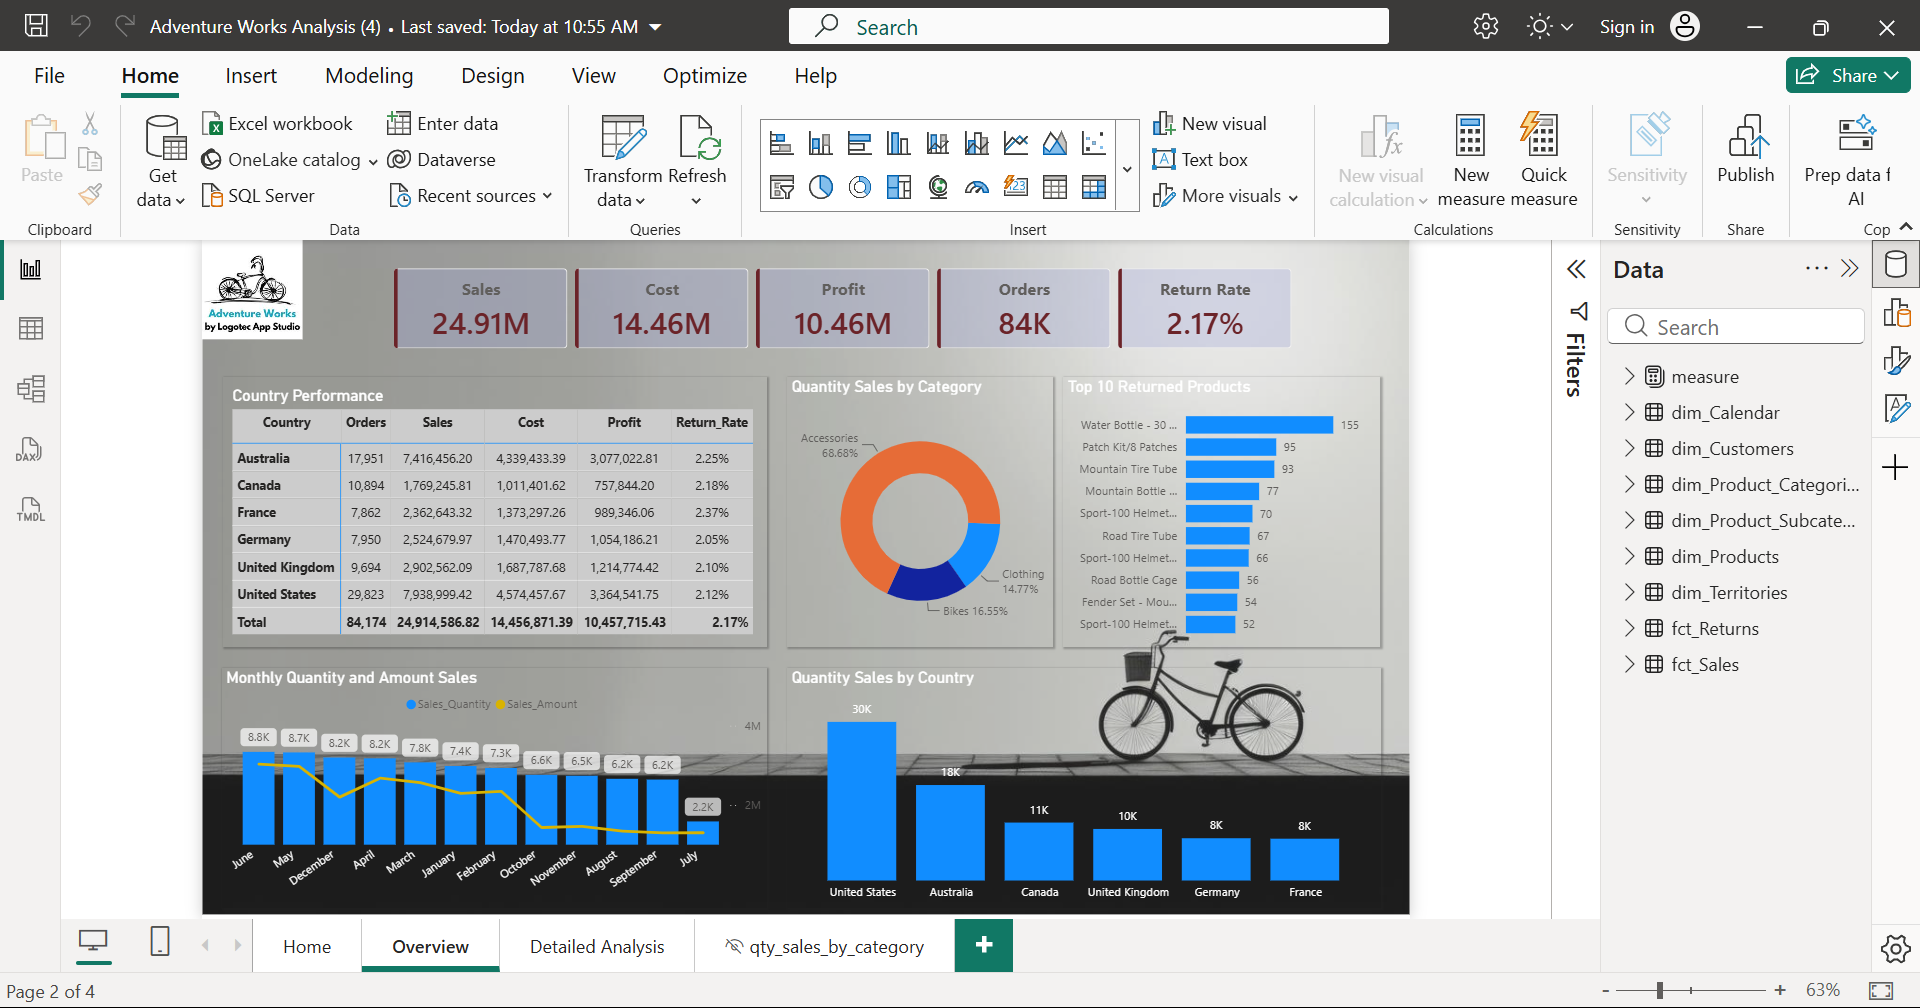

This screenshot's page, from the dashboard's own definition file:
{"tool":"powerbi","page":{"name":"Overview","canvas":[1280,720],"ordinal":0},"visuals":[{"type":"donutChart","title":"Quantity Sales by Category","fields":{"Category":["dim_Product_Categories.CategoryName"],"Y":["measure.Sales_Quantity"]},"box":[620,144.4,282.2,286.7],"z":0},{"type":"cardVisual","fields":{"Data":["measure.Sales_Amount","measure.Cost Amount","measure.Profit","measure.Sales_Quantity","measure.Return_Rate"]},"box":[186.1,13,988.3,119.7],"z":1000},{"type":"pivotTable","title":"Country Performance","fields":{"Rows":["dim_Territories.Country"],"Values":["measure.Sales_Quantity","measure.Sales_Amount","measure.Cost Amount","measure.Profit","measure.Return_Rate"]},"box":[22.2,144.4,576.7,286.7],"z":2000},{"type":"lineClusteredColumnComboChart","title":"Monthly Quantity and Amount Sales","fields":{"Category":["dim_Calendar.Month Name"],"Y":["measure.Sales_Quantity"],"Y2":["measure.Sales_Amount"]},"box":[21.1,453.3,577.8,255.6],"z":3000},{"type":"clusteredColumnChart","title":"Quantity Sales by Country","fields":{"Category":["dim_Territories.Country"],"Y":["measure.Sales_Quantity"]},"box":[620,453.3,630,255.6],"z":4000},{"type":"clusteredBarChart","title":"Top 10 Returned Products","fields":{"Category":["dim_Products.ProductName"],"Y":["measure.Return_Quantity"]},"box":[913.3,144.4,336.7,286.7],"z":5000},{"type":"image","box":[0,0,106.8,105.3],"z":6000}]}

Visuals, with their boxes on the page's 1280x720 design canvas (x1, y1, x2, y2). These are canvas units, not pixel positions in the 1920x1008 screenshot, which may show the page scaled, cropped or inside an application window:
"Quantity Sales by Category" donutChart: crop(620, 144, 902, 431)
cardVisual - measure.Sales_Amount x measure.Cost Amount: crop(186, 13, 1174, 133)
"Country Performance" pivotTable: crop(22, 144, 599, 431)
"Monthly Quantity and Amount Sales" lineClusteredColumnComboChart: crop(21, 453, 599, 709)
"Quantity Sales by Country" clusteredColumnChart: crop(620, 453, 1250, 709)
"Top 10 Returned Products" clusteredBarChart: crop(913, 144, 1250, 431)
image: crop(0, 0, 107, 105)
